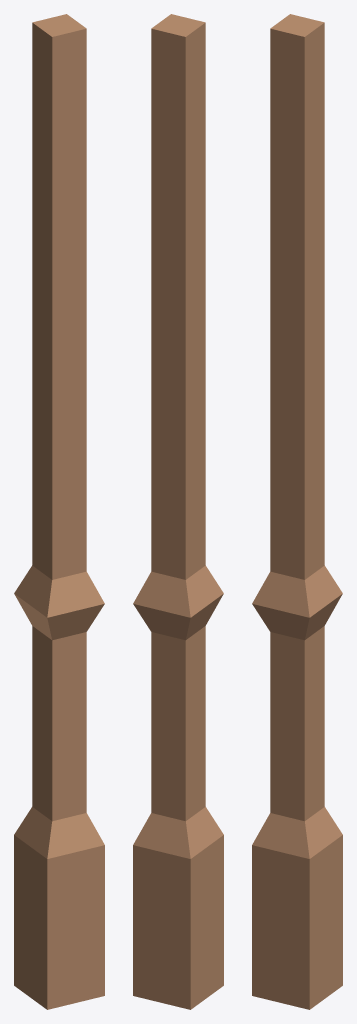
The model's file is Stairs_Peg.obj.
3 renders of one model, left to right at view 1: azimuth 30°, elevation 25°; view 2: azimuth 150°, elevation 25°; view 3: azimuth 330°, elevation 25°, orthographic.
Visible parts, largest first — view 1: object1; view 2: object1; view 3: object1.
Part boxes in pixels (x1=…): object1: x1=14, y1=14, x2=104, y2=1009; object1: x1=133, y1=14, x2=223, y2=1009; object1: x1=252, y1=14, x2=342, y2=1009.
Size of the model in its own units: 0.05 by 0.8 by 0.05.
